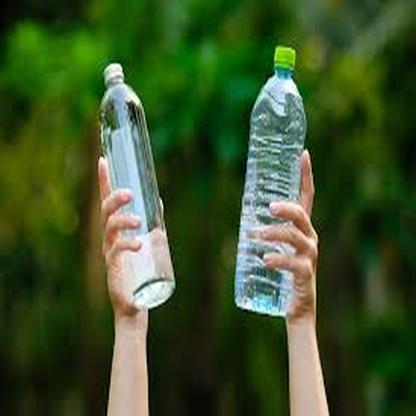plastic bottle: (100, 62, 176, 311), (238, 47, 306, 317)
